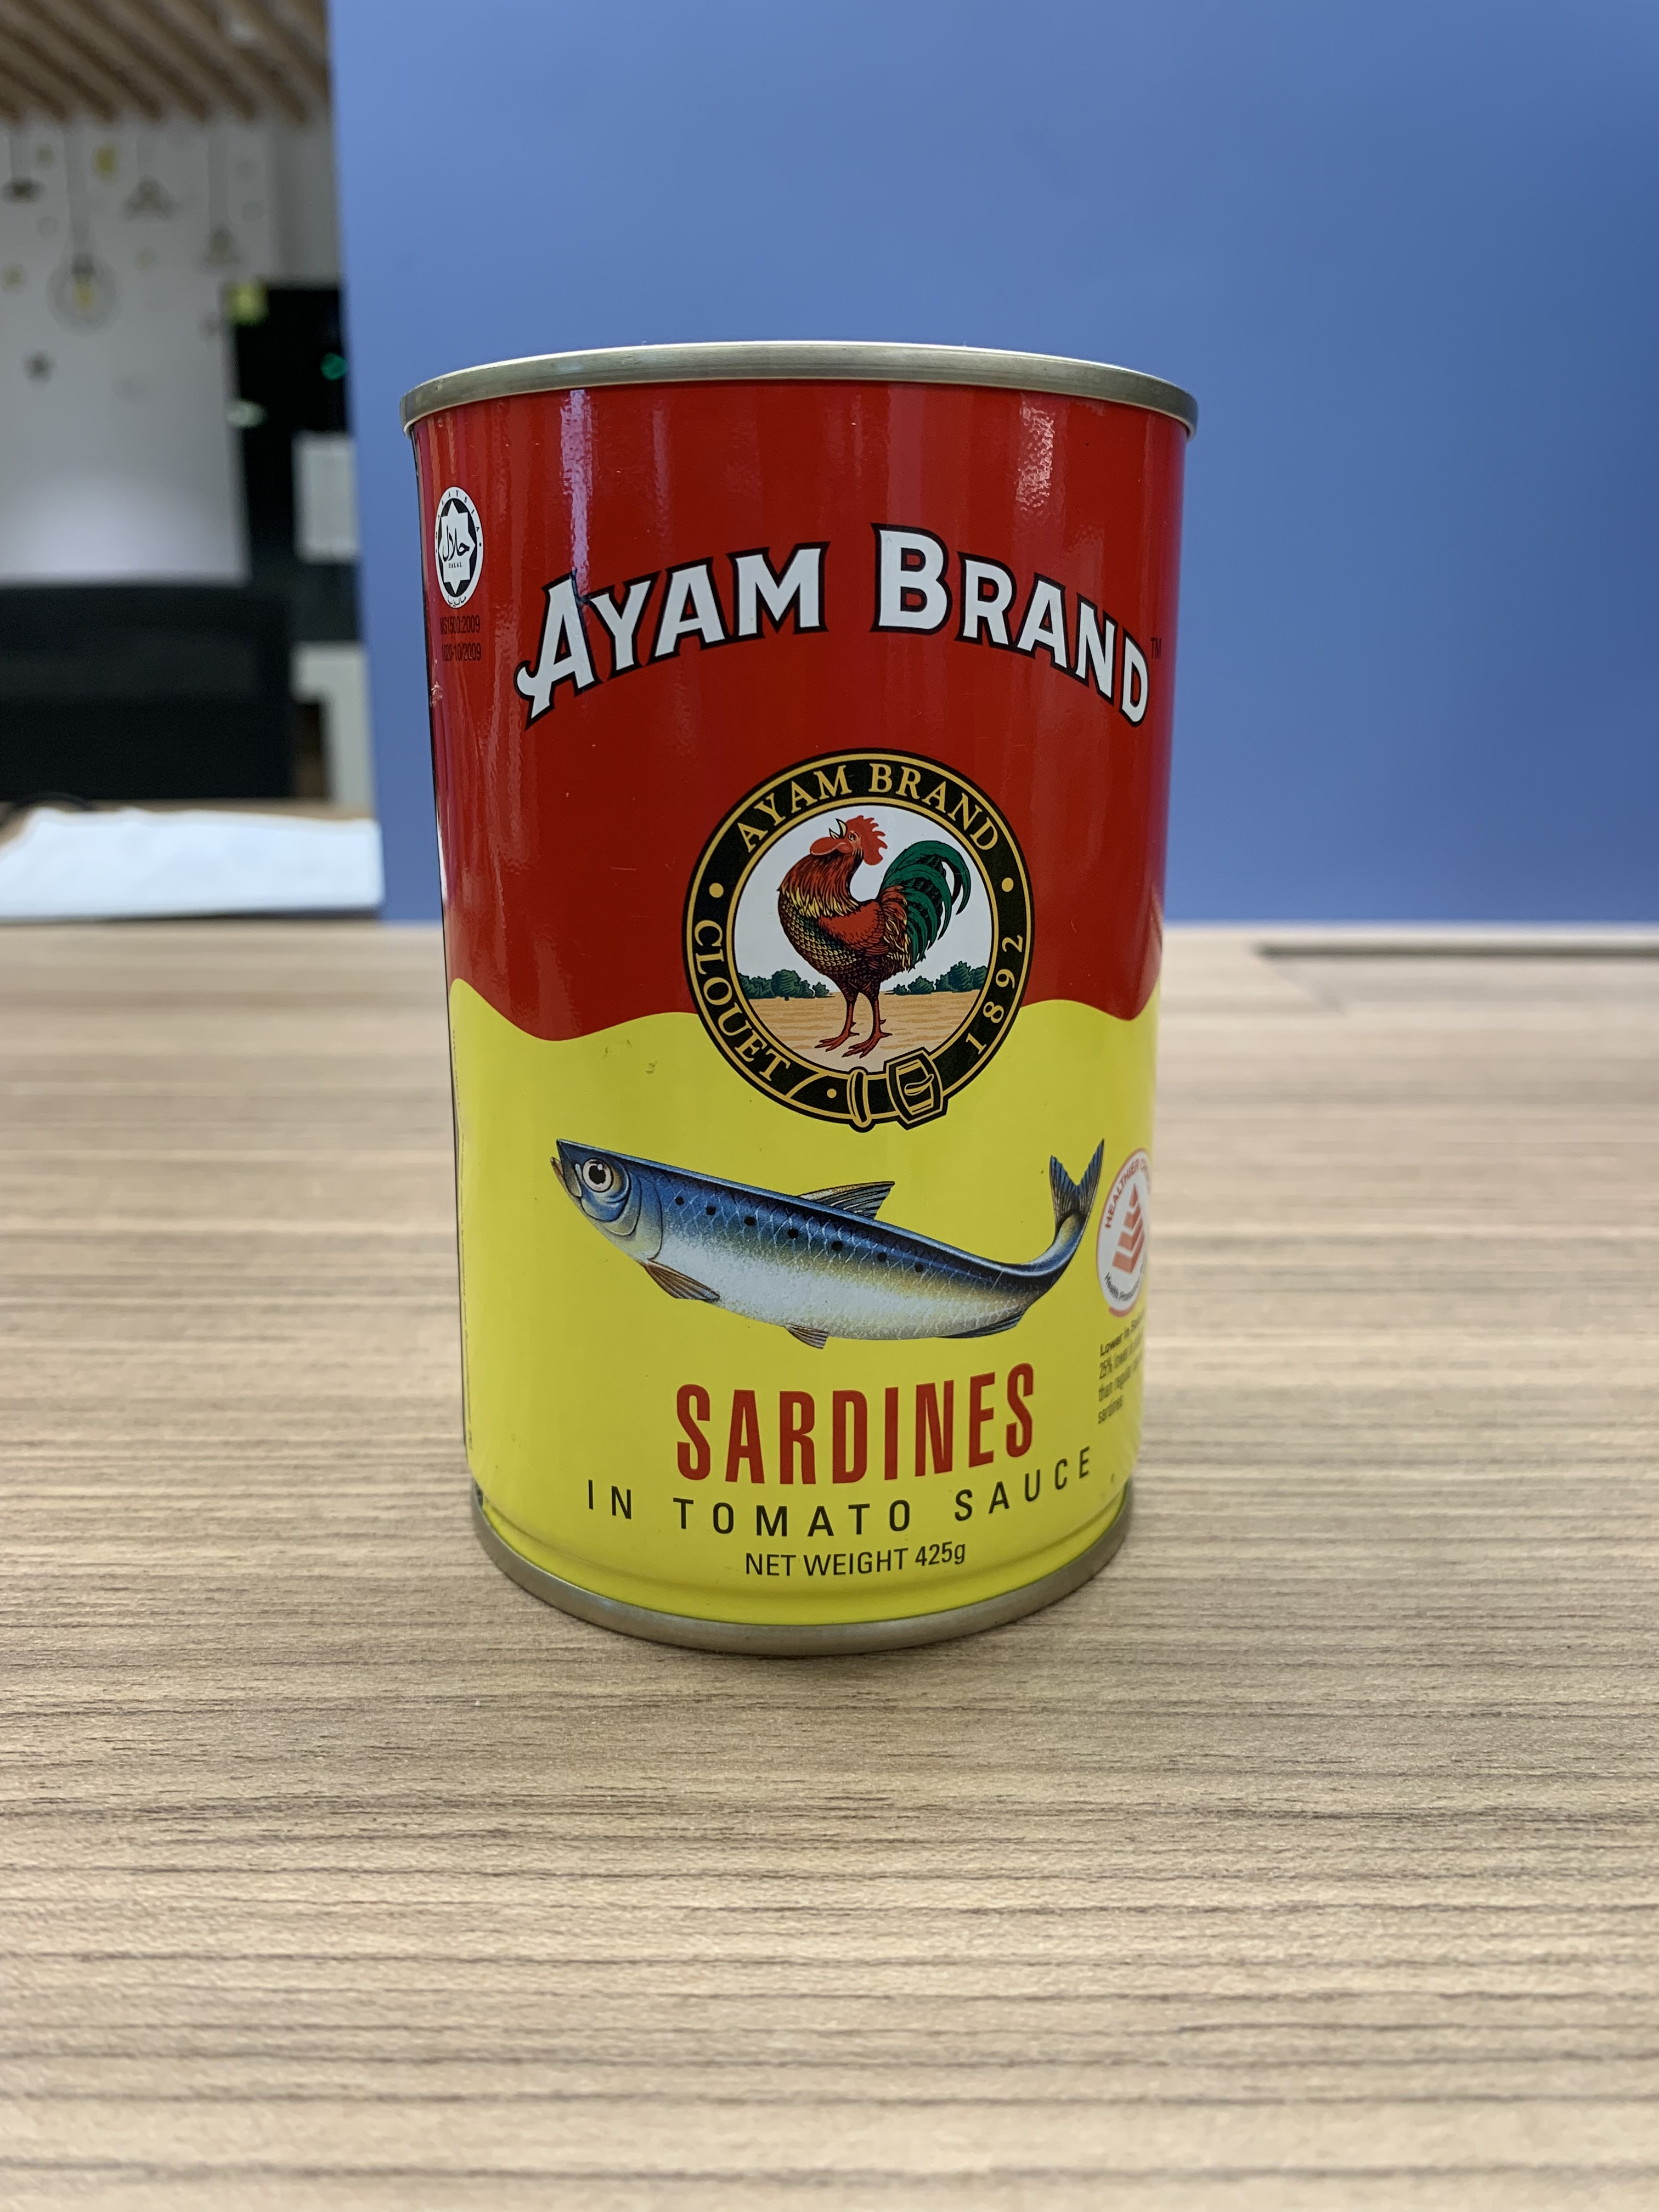sardines_400g-499g: (434, 394, 1147, 1587)
